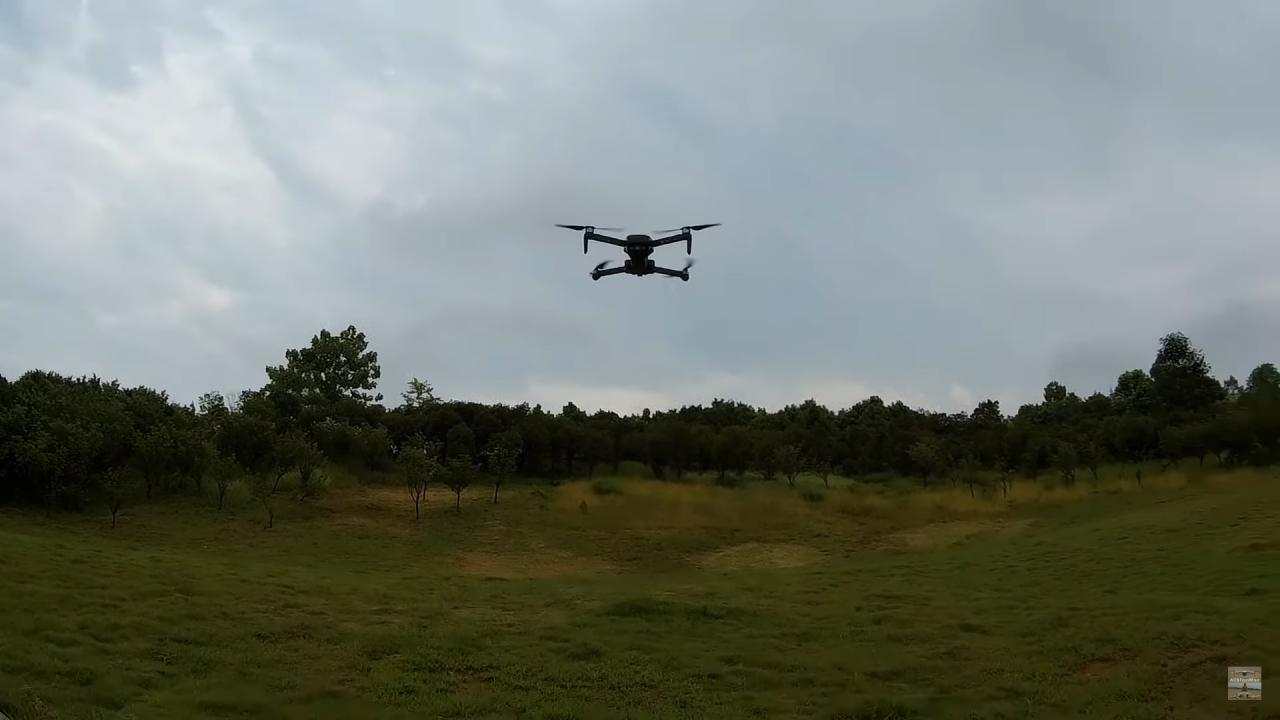Drone: (543, 202, 729, 293)
